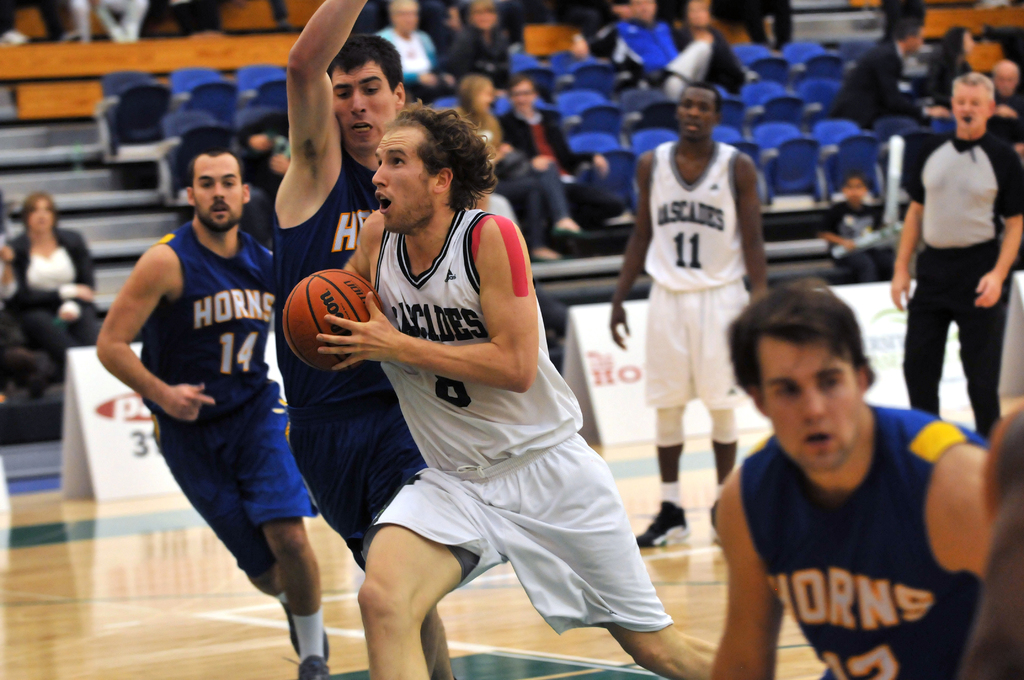Ball: (287, 268, 380, 368)
